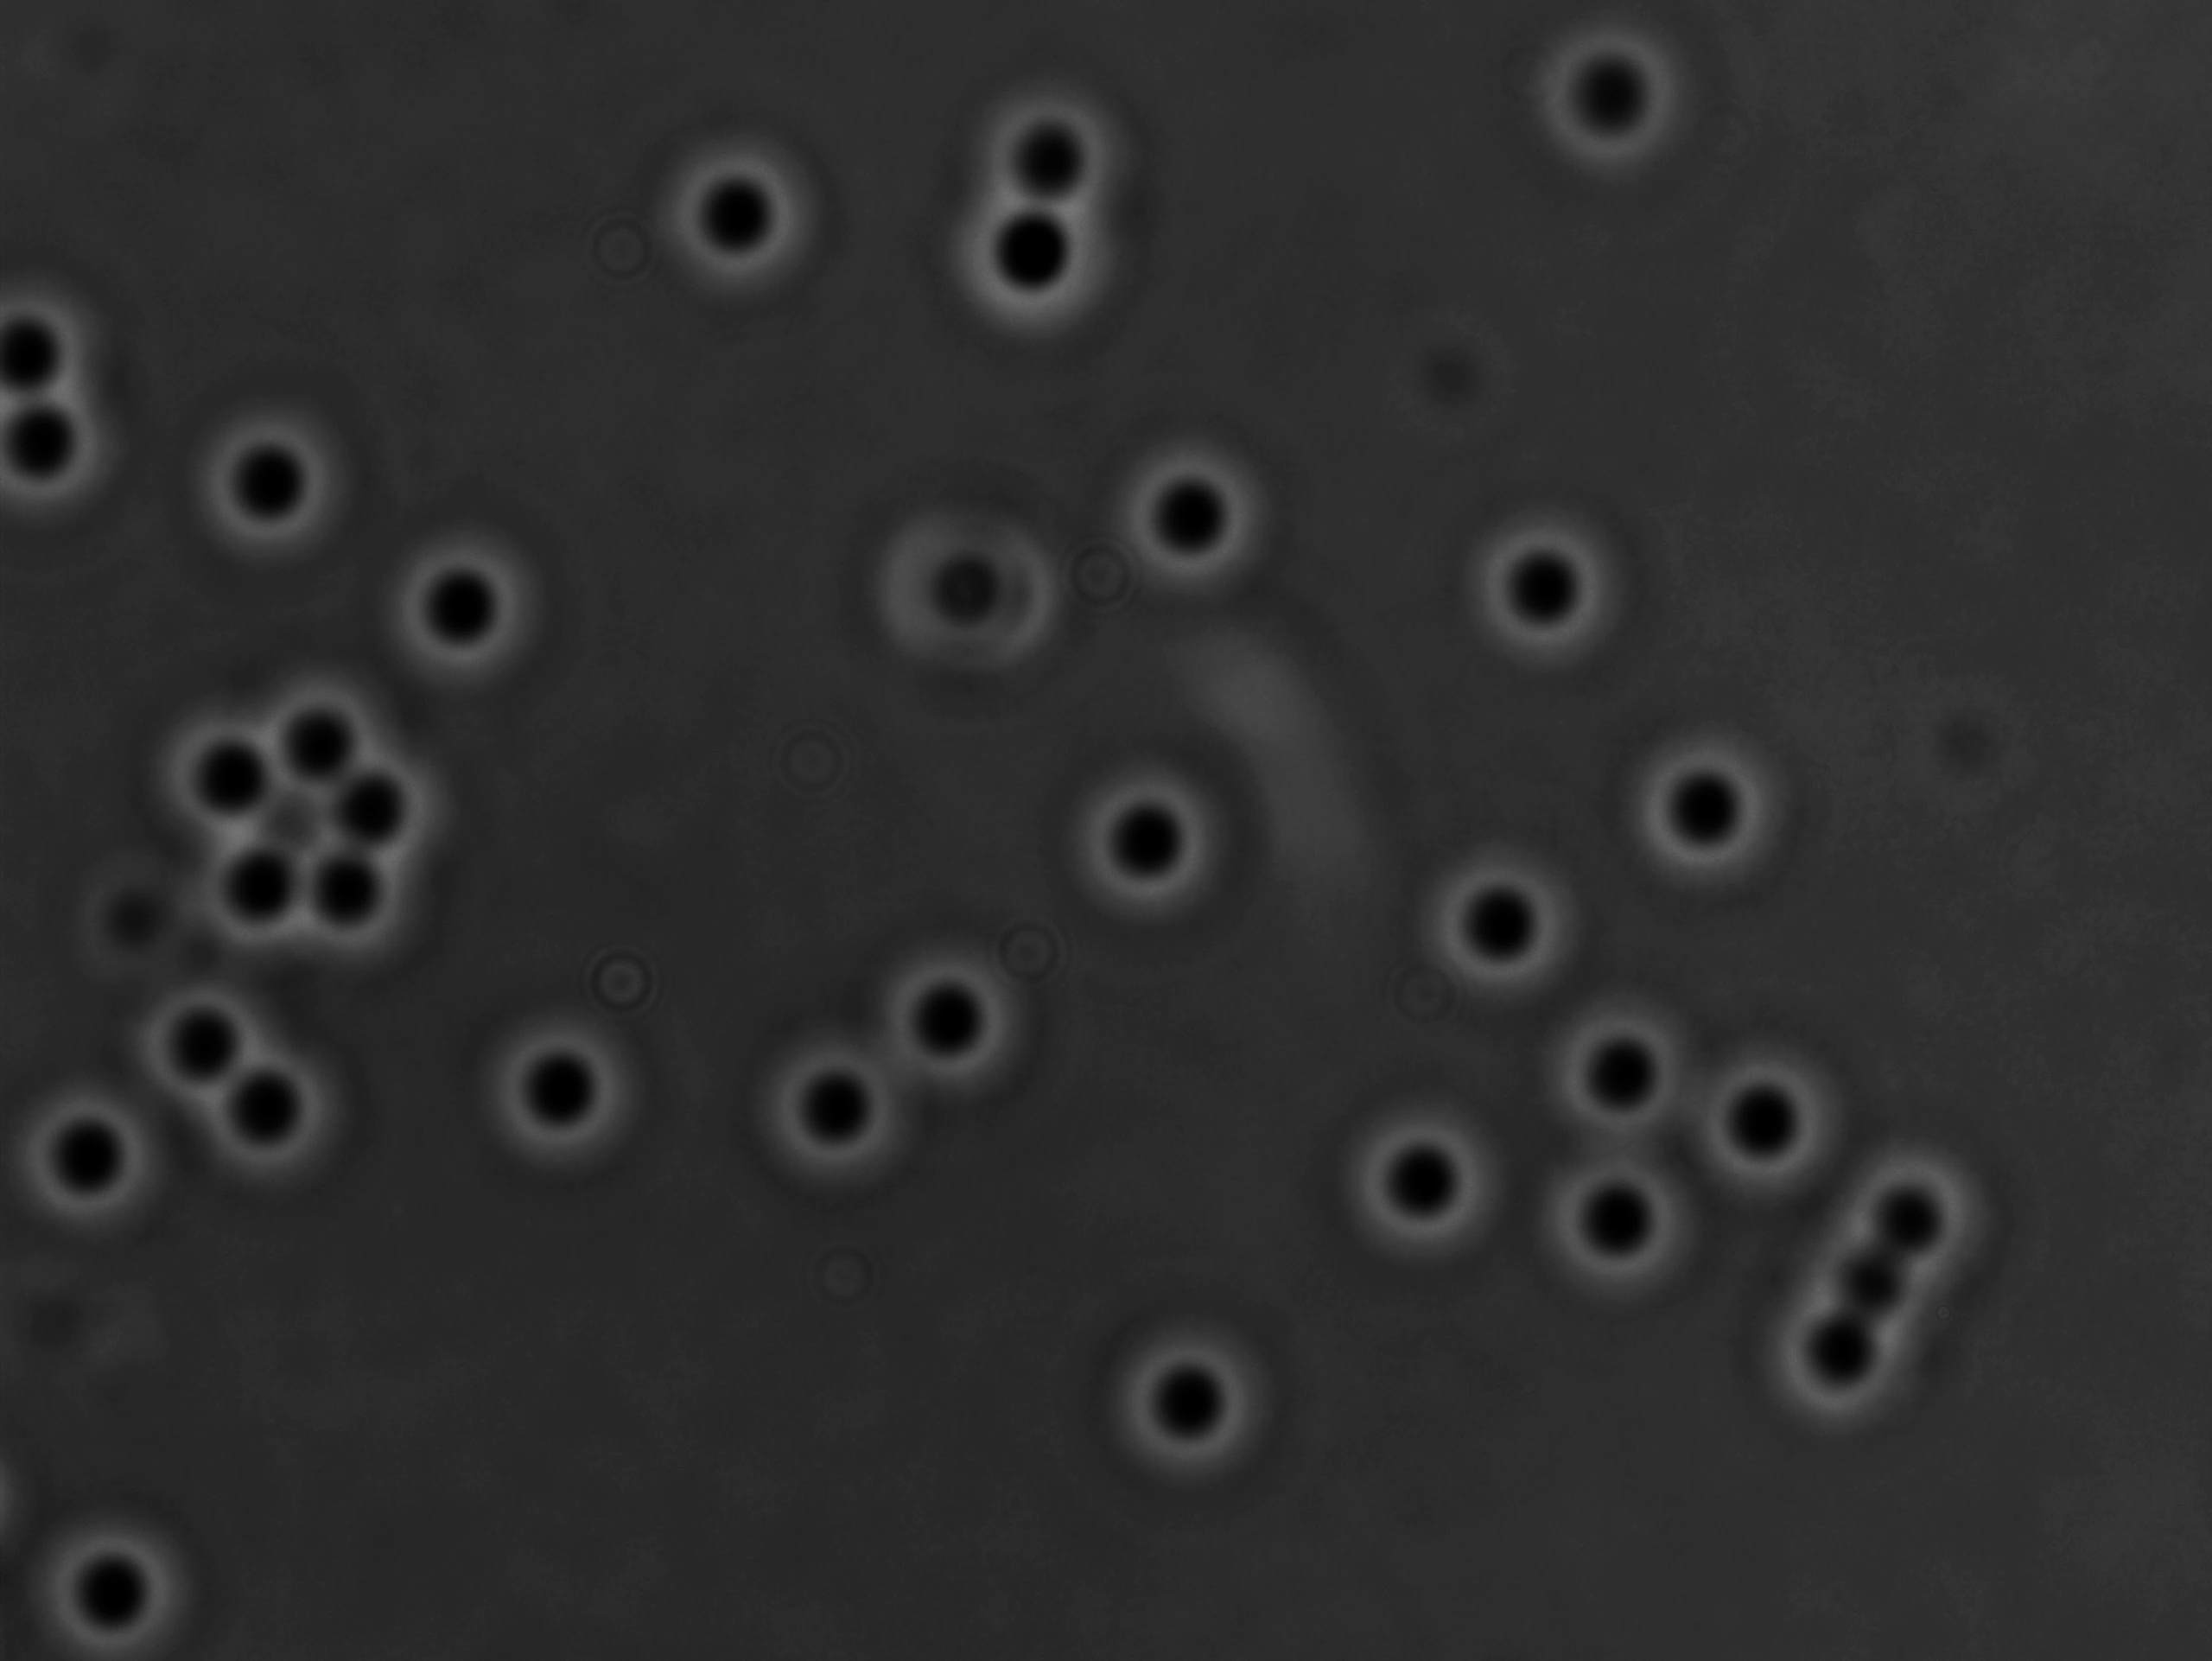depth:-80: (1673, 1024, 1875, 1237), (1507, 1124, 1717, 1328), (949, 52, 1171, 239), (366, 502, 574, 700), (1451, 483, 1643, 694), (225, 646, 431, 830), (3, 1054, 187, 1251), (741, 1019, 928, 1209), (181, 1029, 379, 1204), (947, 169, 1148, 340), (1413, 825, 1600, 1007), (1324, 1085, 1511, 1267), (276, 705, 464, 885), (1512, 5, 1701, 185), (1062, 750, 1254, 925), (1528, 977, 1715, 1155), (1106, 438, 1296, 611), (155, 682, 337, 860), (649, 126, 829, 304), (1099, 1307, 1280, 1483), (112, 949, 288, 1129), (19, 1495, 208, 1661), (867, 940, 1038, 1122), (1614, 724, 1792, 897), (187, 398, 361, 572), (476, 1014, 658, 1179)
